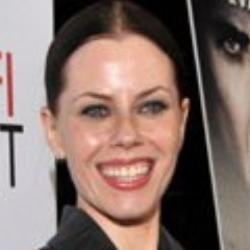face: (20, 16, 207, 230)
